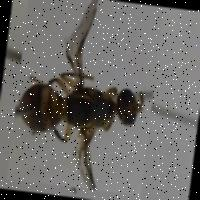Oriental-fruit-fly: (5, 0, 162, 195)
